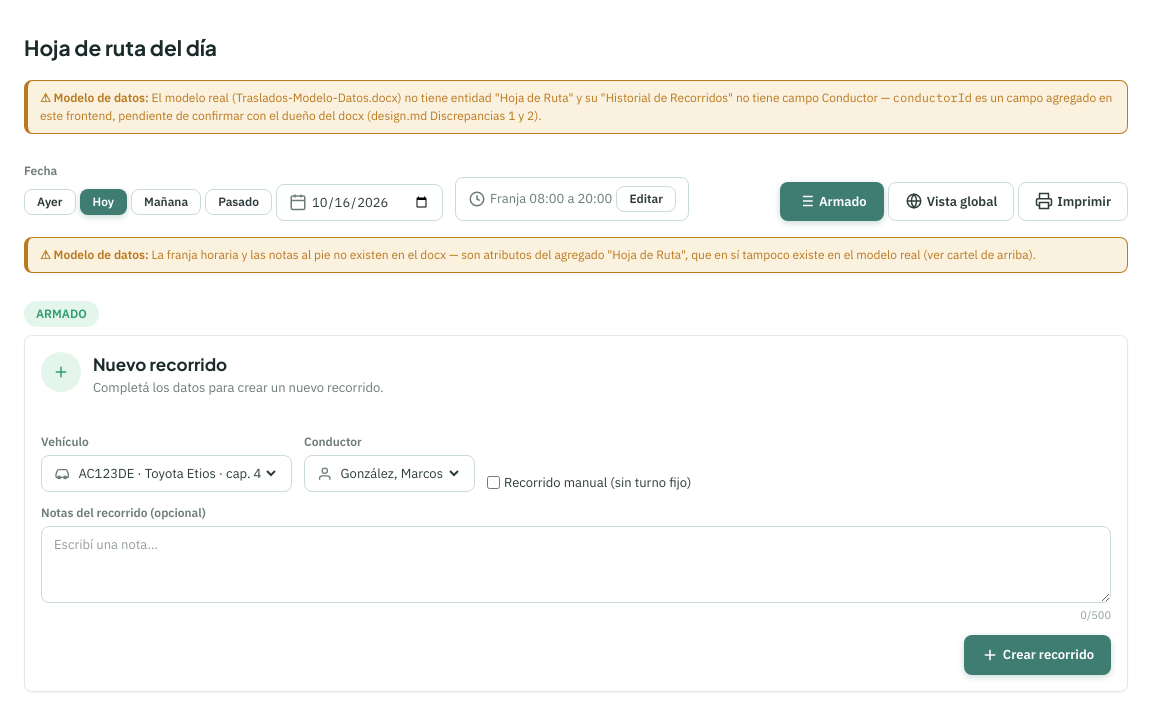
Test case: HojaDeRutaPage — lo que NO se gatea (D1/D2) › con permiso de escritura: los tres conmutadores de vista funcionan igual
The width and height of the screenshot is (1152, 709).
Click the button "Vista global" at (951, 201), box [888, 182, 1014, 221]
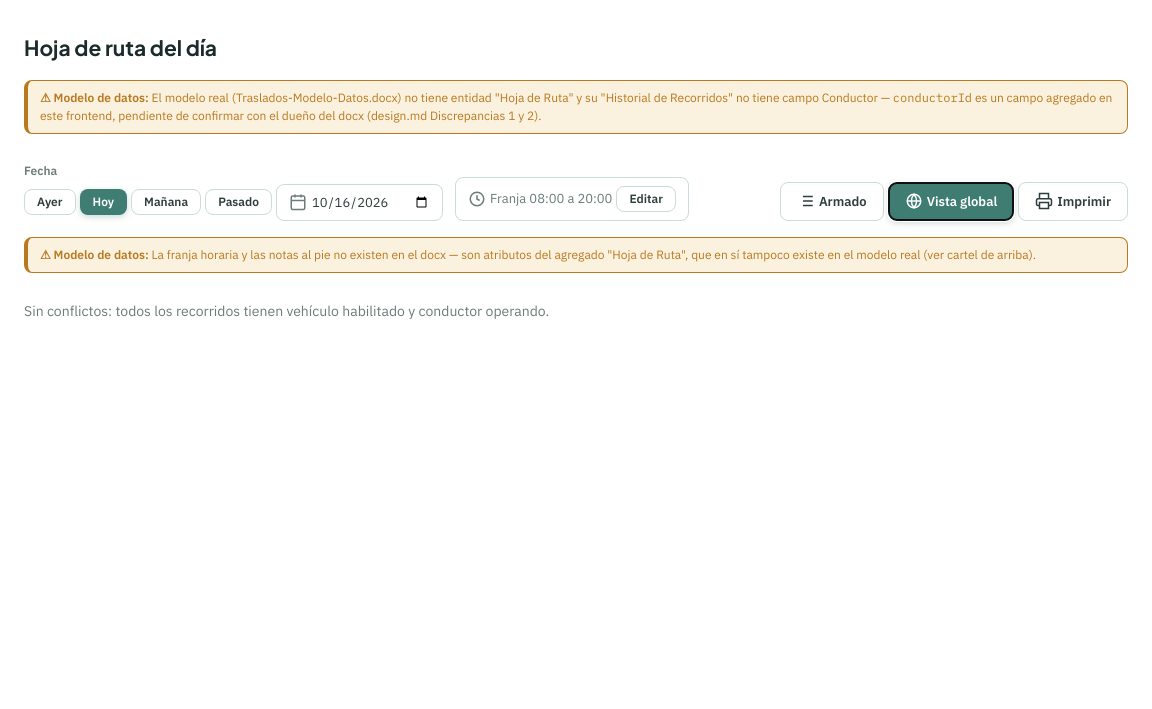
Result: the text "Sin conflictos" is shown at [24, 302, 549, 320]
